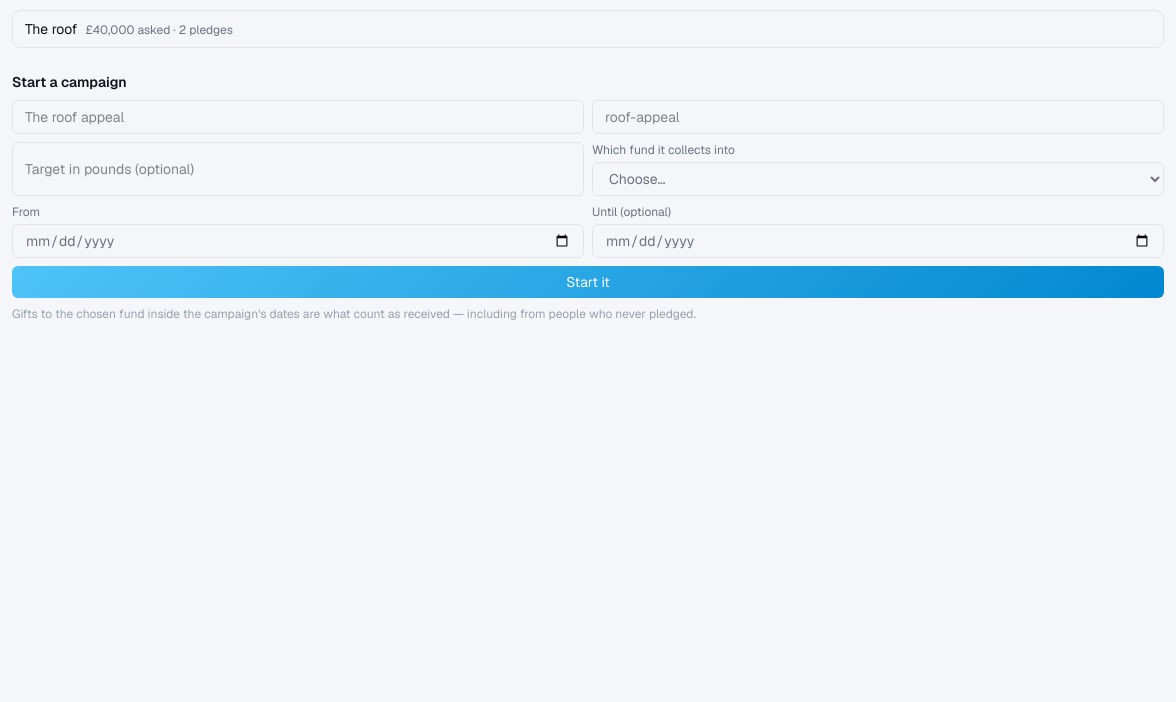
Test case: recording a pledge › defaults the name to not being shown
Click the button "The roof£40,000 asked · 2 pledges" at [51, 29], box [12, 10, 1164, 48]
(page scrolled)
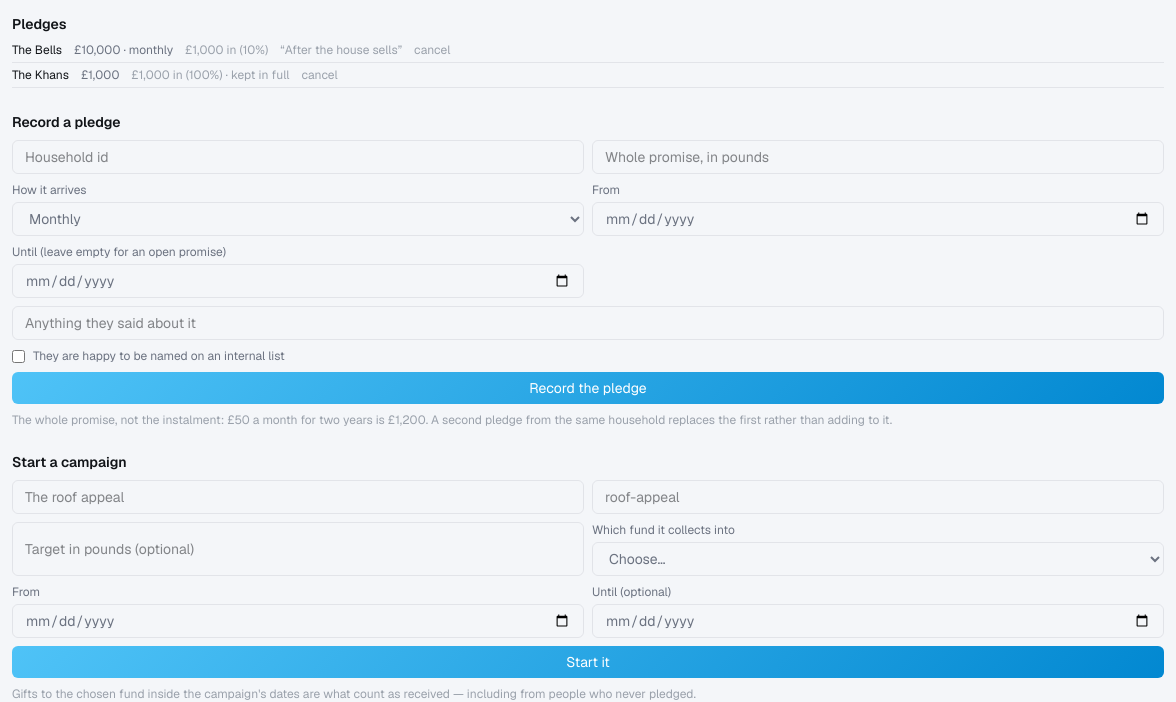
Expected: the checkbox labelled "They are happy to be named on an internal list" is not checked, [12, 350, 25, 362]
